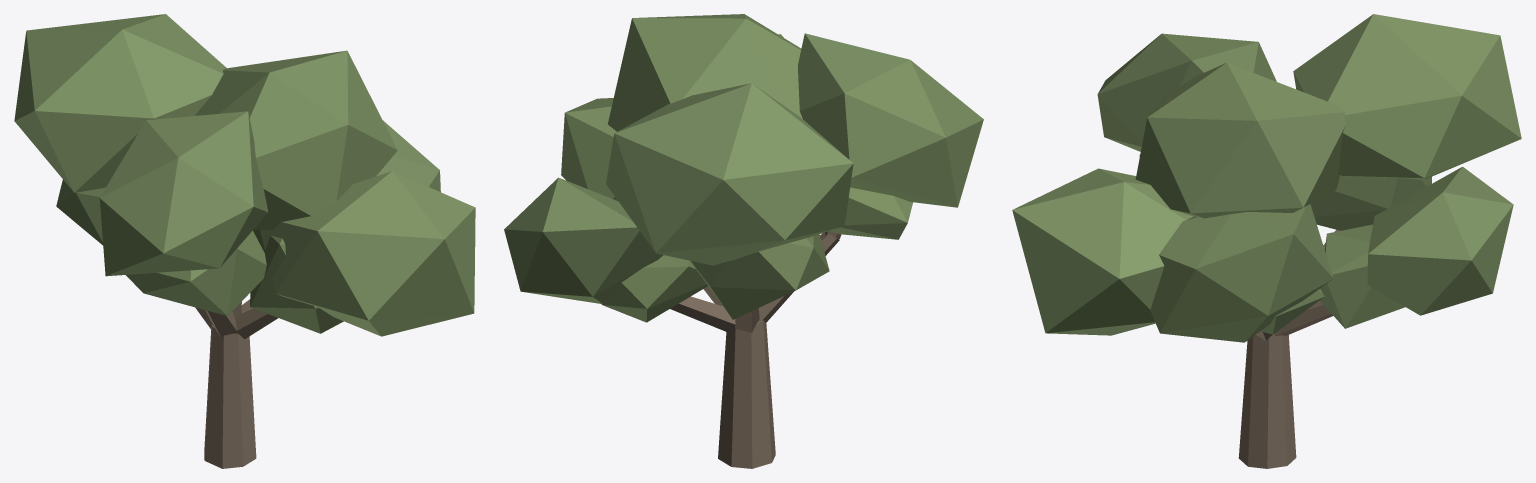
File: broadleaf_5.glb
3 views of the same model, side by side, from view 1: azimuth 30°, elevation 25°; view 2: azimuth 150°, elevation 25°; view 3: azimuth 270°, elevation 25° (orthographic). The views are drawn at different scales.
Visible parts, largest first — view 1: broadleaf_5.001; view 2: broadleaf_5.001; view 3: broadleaf_5.001.
Boxes of the visible parts, x1,y1,x2,y2 form: broadleaf_5.001: (14,14,475,468); broadleaf_5.001: (504,14,983,468); broadleaf_5.001: (1012,14,1521,468).
Bounding box in the file's own units: 14.2 × 16.28 × 18.01.
